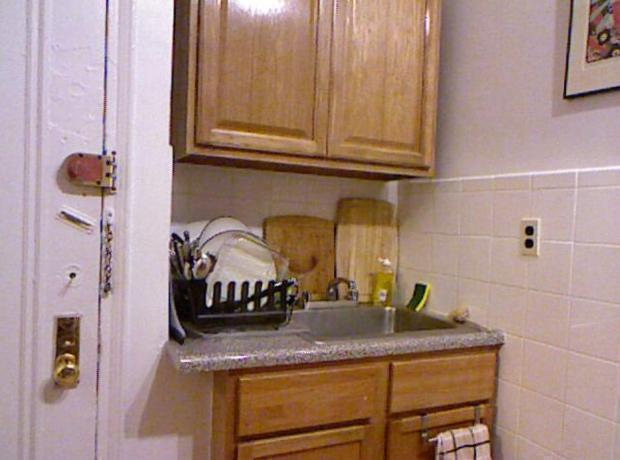Lavaplatos: (277, 256, 460, 348)
